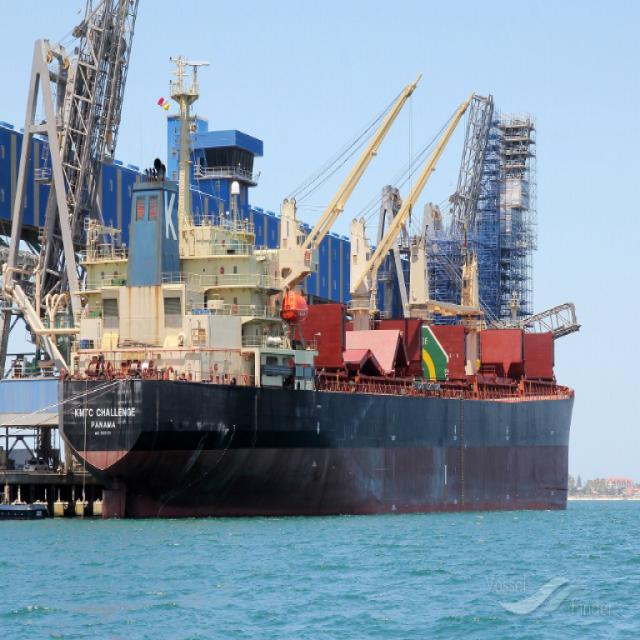Bulk Carrier: (84, 223, 578, 523)
